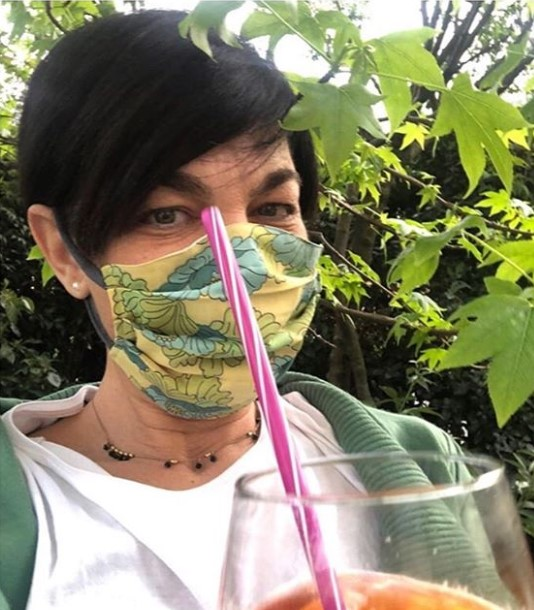face_with_mask: (25, 19, 331, 423)
